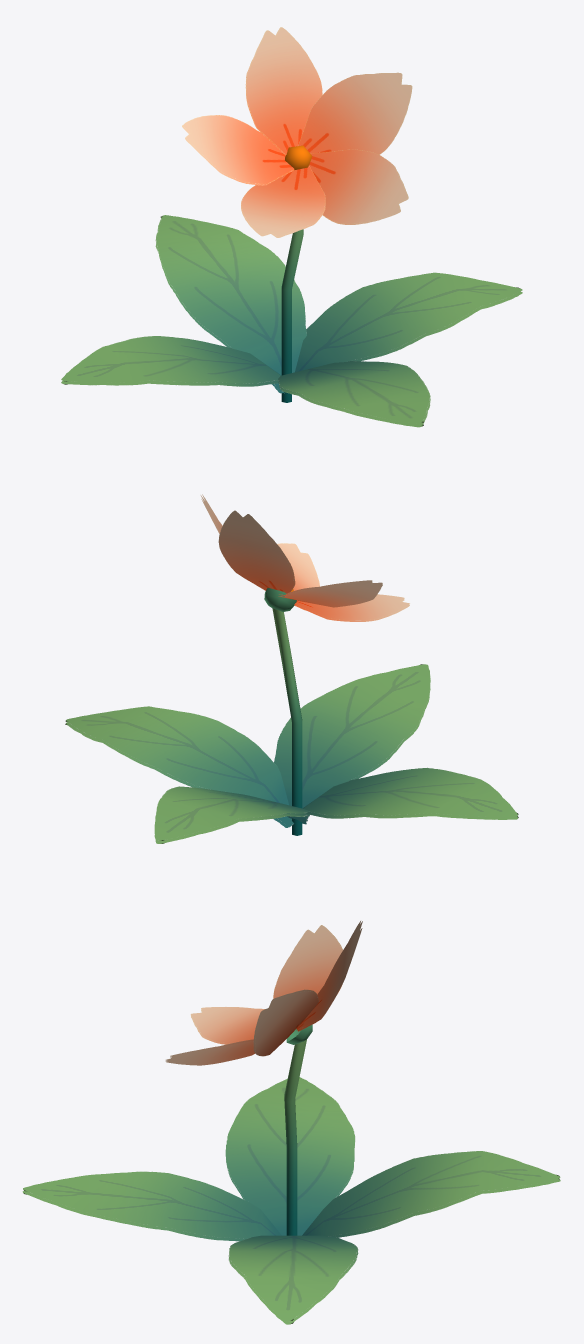
Rendered from hana_orange.fbx.
The picture shows the model from 3 angles, top to bottom: view 1: azimuth 30°, elevation 25°; view 2: azimuth 150°, elevation 25°; view 3: azimuth 270°, elevation 25°; orthographic projection. The views are drawn at different scales.
Visible parts, largest first — view 1: pPlane46, pPlane39, pPlane47, pPlane48, pPlane42, pPlane41, pPlane43, pPlane45, pPlane44, pCylinder18; view 2: pPlane48, pPlane39, pPlane47, pPlane46, pPlane41, pCylinder18, pPlane45, pPlane44, pPlane43, pSphere2; view 3: pPlane47, pPlane48, pPlane46, pPlane39, pPlane45, pPlane42, pCylinder18, pPlane44, pPlane41, pPlane43.
Boxes of the visible parts, x1,y1,x2,y2 form: pPlane46: [155, 215, 306, 393]; pPlane39: [295, 272, 522, 372]; pPlane47: [61, 336, 280, 386]; pPlane48: [278, 361, 430, 427]; pPlane42: [298, 72, 412, 154]; pPlane41: [245, 27, 322, 155]; pPlane43: [309, 149, 408, 224]; pPlane45: [182, 115, 294, 185]; pPlane44: [241, 165, 325, 237]; pCylinder18: [281, 229, 303, 402]; pPlane48: [274, 664, 430, 808]; pPlane39: [65, 706, 293, 827]; pPlane47: [290, 767, 518, 819]; pPlane46: [154, 786, 309, 843]; pPlane41: [218, 510, 295, 593]; pCylinder18: [272, 608, 302, 835]; pPlane45: [278, 580, 382, 607]; pPlane44: [294, 594, 409, 621]; pPlane43: [277, 543, 319, 610]; pSphere2: [264, 588, 296, 611]; pPlane47: [225, 1077, 355, 1235]; pPlane48: [22, 1171, 281, 1241]; pPlane46: [302, 1151, 560, 1237]; pPlane39: [228, 1235, 358, 1324]; pPlane45: [273, 925, 342, 998]; pPlane42: [253, 989, 318, 1056]; pCylinder18: [284, 1035, 306, 1235]; pPlane44: [190, 1007, 264, 1044]; pPlane41: [296, 921, 362, 1031]; pPlane43: [165, 1039, 254, 1065].
Size of the model in its own units: 3.19 by 2.27 by 3.19.
